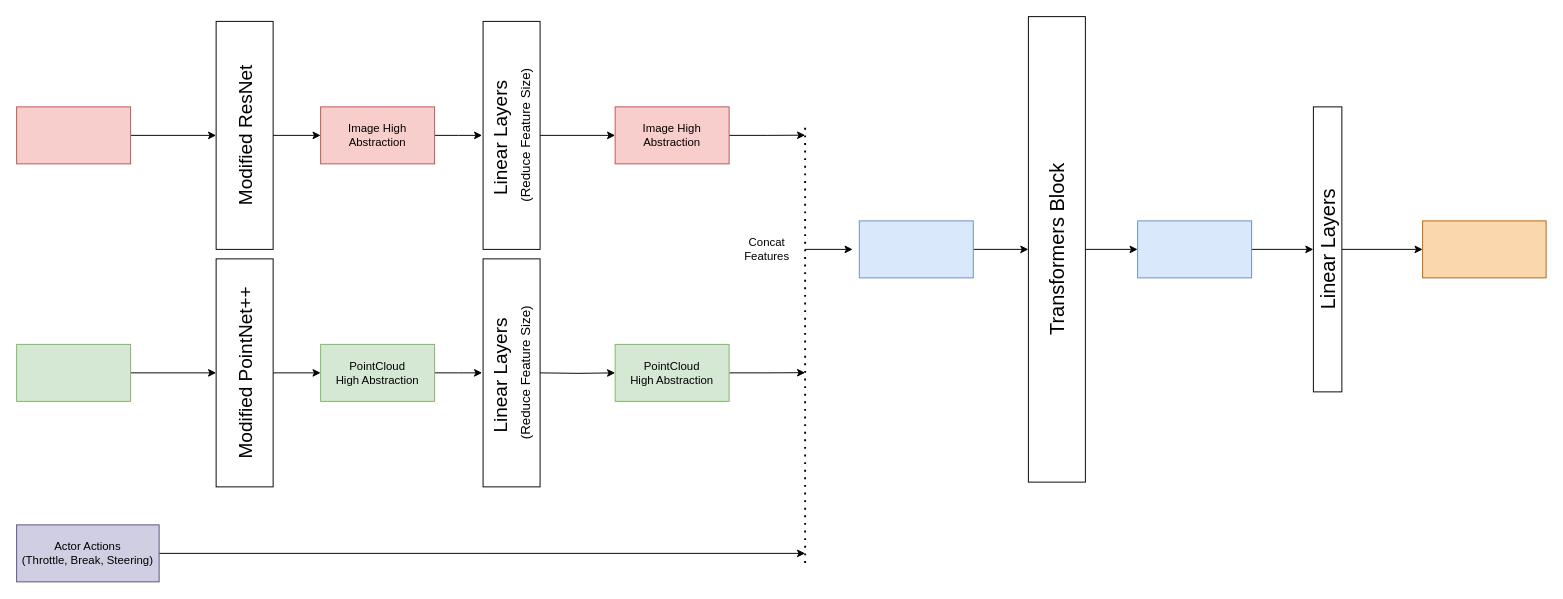
The diagram is 1563 pixels wide and 599 high, and some of its shapes have lost their labels. The box of each missing label's shape, as (x1, y1, x2, y2) in pixels:
Concatenated Features: (858, 220, 973, 278)
Image Data: (16, 106, 131, 164)
LiDAR PointCloud: (16, 343, 131, 401)
Q-Value: (1422, 220, 1546, 278)
Transformer Weighted Features: (1137, 220, 1252, 278)
